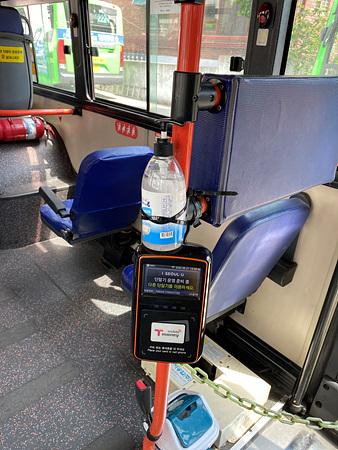terminal: (133, 246, 208, 363)
